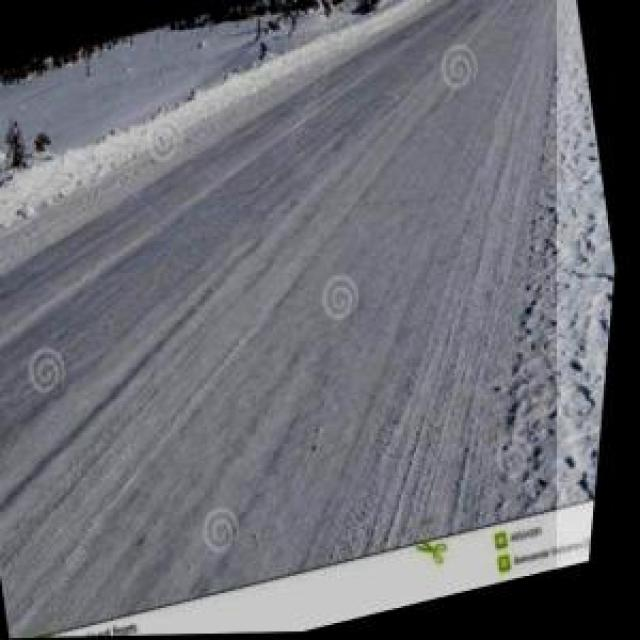ice-road: (0, 0, 557, 638)
